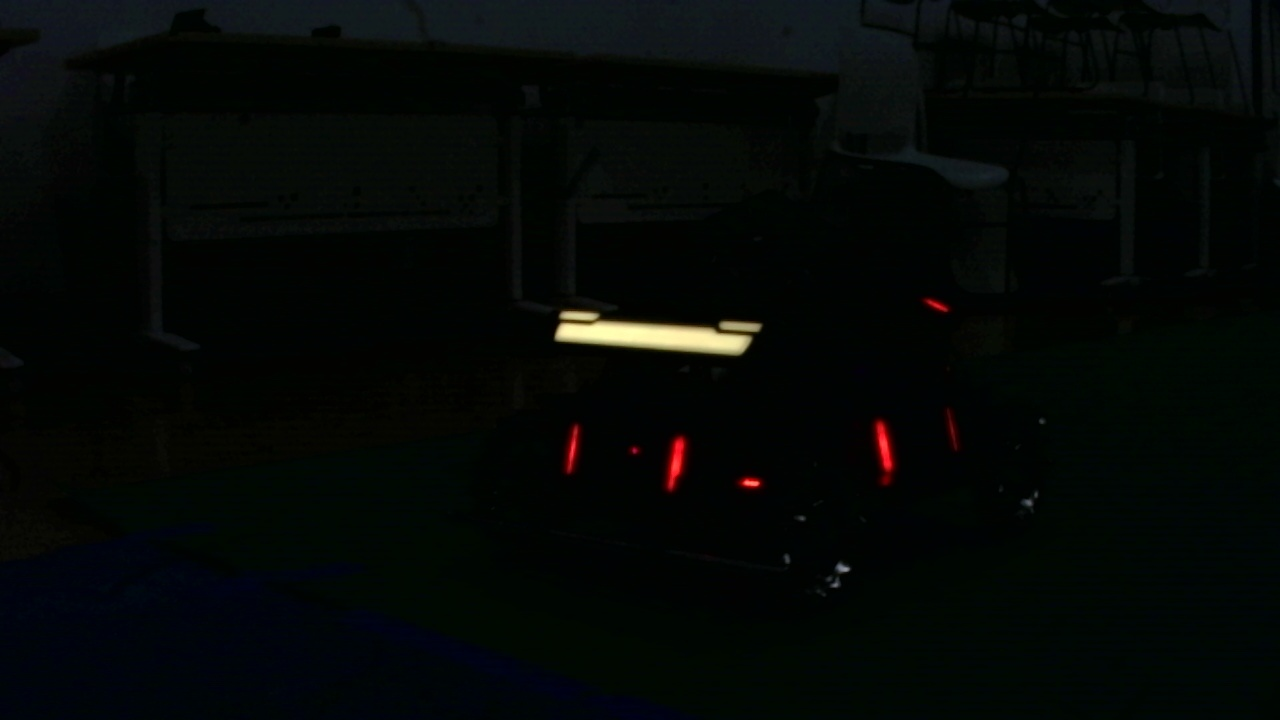lamp: (662, 422, 688, 496), (870, 415, 897, 480), (559, 421, 581, 480)
notpair1: (668, 419, 897, 492)
pair1: (559, 425, 688, 493)
